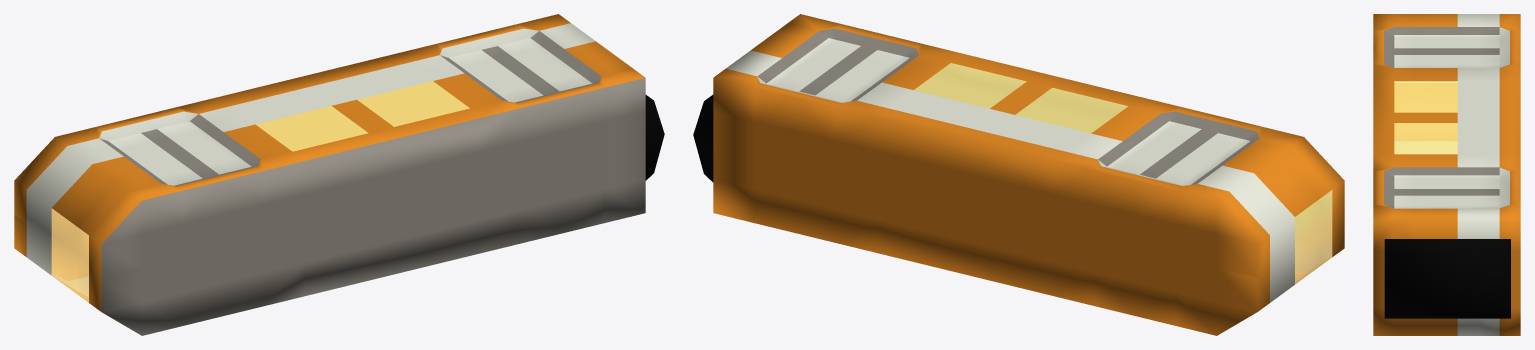
File: asset22.glb
The picture shows the model from 3 angles, left to right: view 1: azimuth 30°, elevation 25°; view 2: azimuth 150°, elevation 25°; view 3: azimuth 270°, elevation 25°; orthographic projection. The views are drawn at different scales.
Parts seen in each view (by area): view 1: Cylinder4_sep10, Cylinder4_sep11, Cylinder4; view 2: Cylinder4_sep10, Cylinder4_sep11, Cylinder4; view 3: Cylinder4_sep10, Cylinder4, Cylinder4_sep11.
Boxes of the visible parts, x1=… form: Cylinder4_sep10: x1=14, y1=14, x2=645, y2=277; Cylinder4_sep11: x1=14, y1=105, x2=645, y2=335; Cylinder4: x1=645, y1=95, x2=664, y2=180; Cylinder4_sep10: x1=713, y1=14, x2=1344, y2=277; Cylinder4_sep11: x1=713, y1=145, x2=1344, y2=335; Cylinder4: x1=693, y1=95, x2=713, y2=182; Cylinder4_sep10: x1=1373, y1=14, x2=1520, y2=278; Cylinder4: x1=1384, y1=239, x2=1510, y2=318; Cylinder4_sep11: x1=1373, y1=83, x2=1520, y2=335.
Size of what is drawn, in the model's own units: 1 by 0.2268 by 0.2647.
